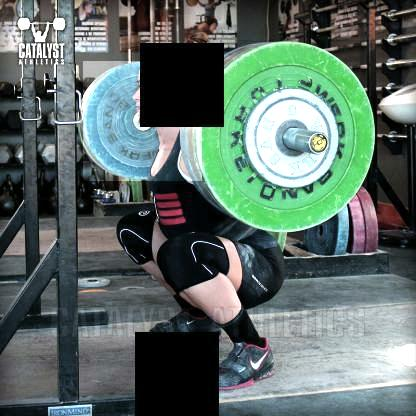barbell: (196, 41, 377, 234), (83, 62, 203, 183)
